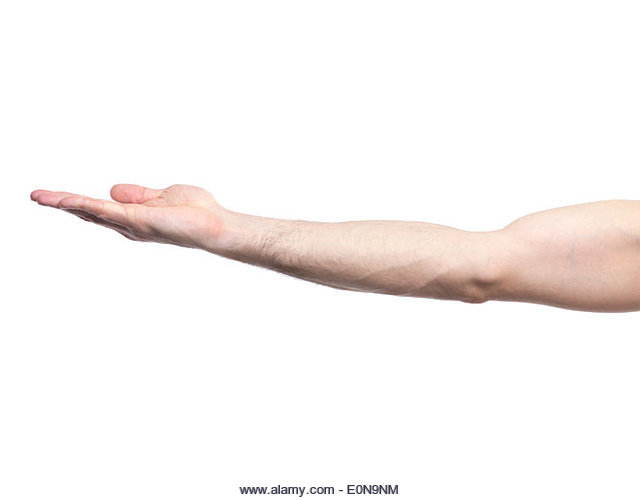hand: (14, 155, 259, 283)
